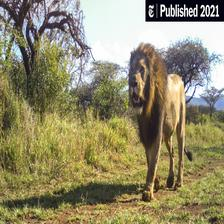Lion: (122, 40, 194, 204)
